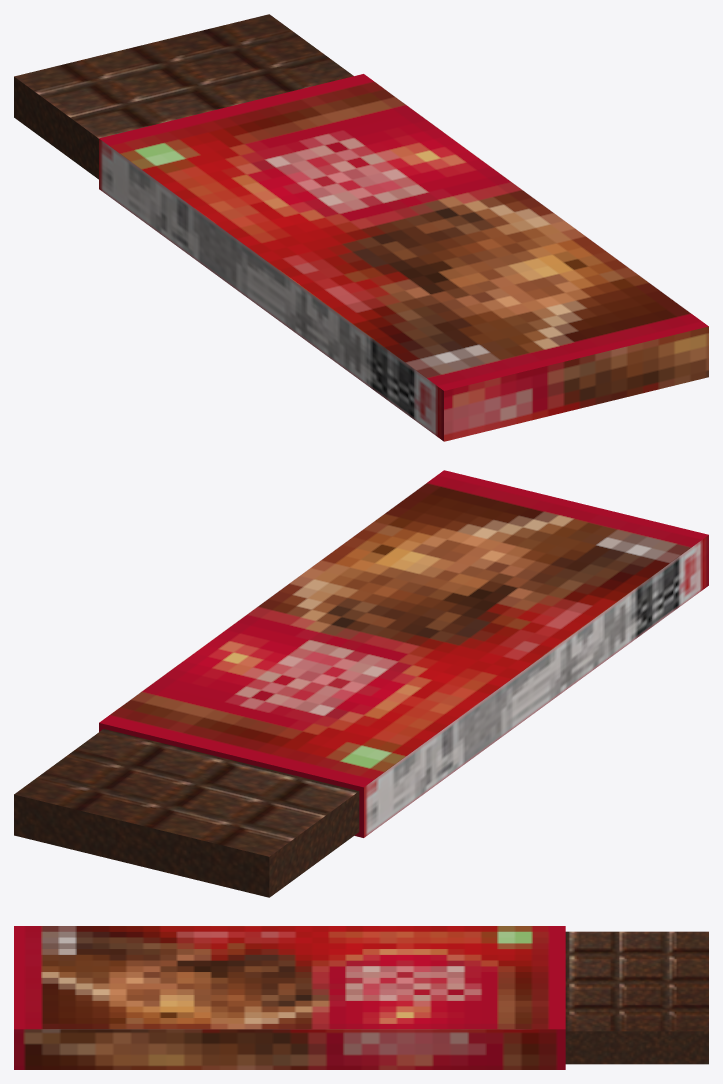
File: chocolate_bar_open.obj
3 renders of one model, top to bottom at view 1: azimuth 30°, elevation 25°; view 2: azimuth 150°, elevation 25°; view 3: azimuth 270°, elevation 25°, orthographic. The views are drawn at different scales.
Parts seen in each view (by area): view 1: chocolate_bar_open; view 2: chocolate_bar_open; view 3: chocolate_bar_open.
Boxes of the visible parts, <box> form: chocolate_bar_open: <box>14,14,708,441</box>; chocolate_bar_open: <box>14,470,708,897</box>; chocolate_bar_open: <box>14,926,708,1069</box>.
Bounding box in the file's own units: 0.1147 × 0.021 × 0.3262.
